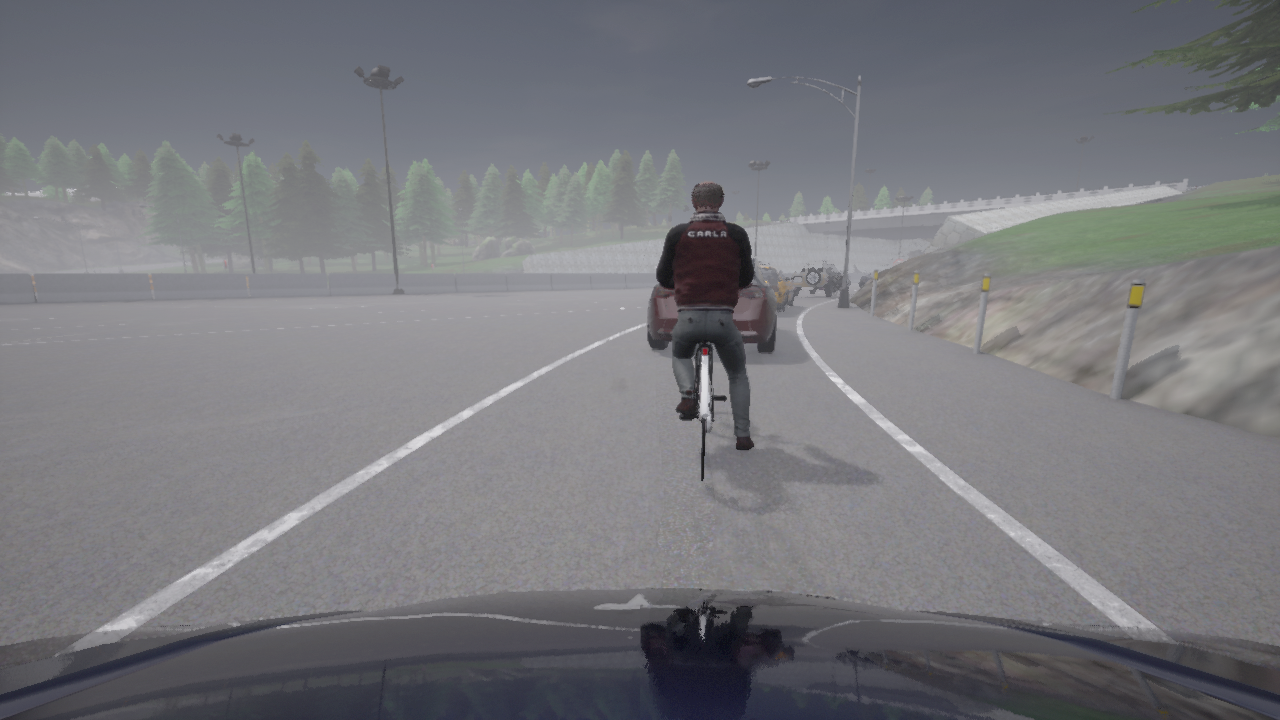cyclist: (0, 588, 1279, 719), (647, 257, 778, 352), (680, 342, 725, 481), (791, 260, 850, 297), (758, 262, 795, 312), (860, 270, 882, 286)
